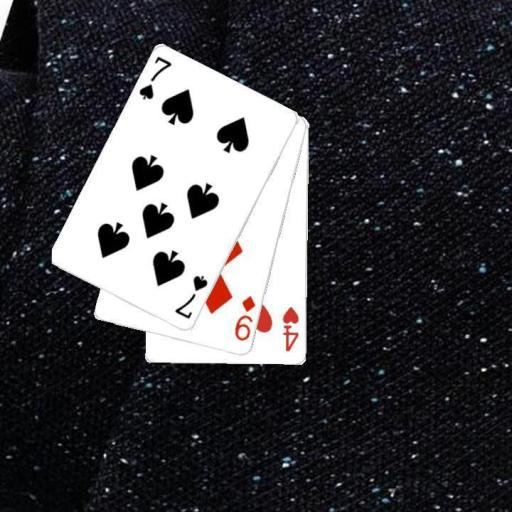card-corner: (171, 272, 210, 322), (136, 53, 173, 102), (232, 293, 257, 343), (279, 304, 301, 354)
